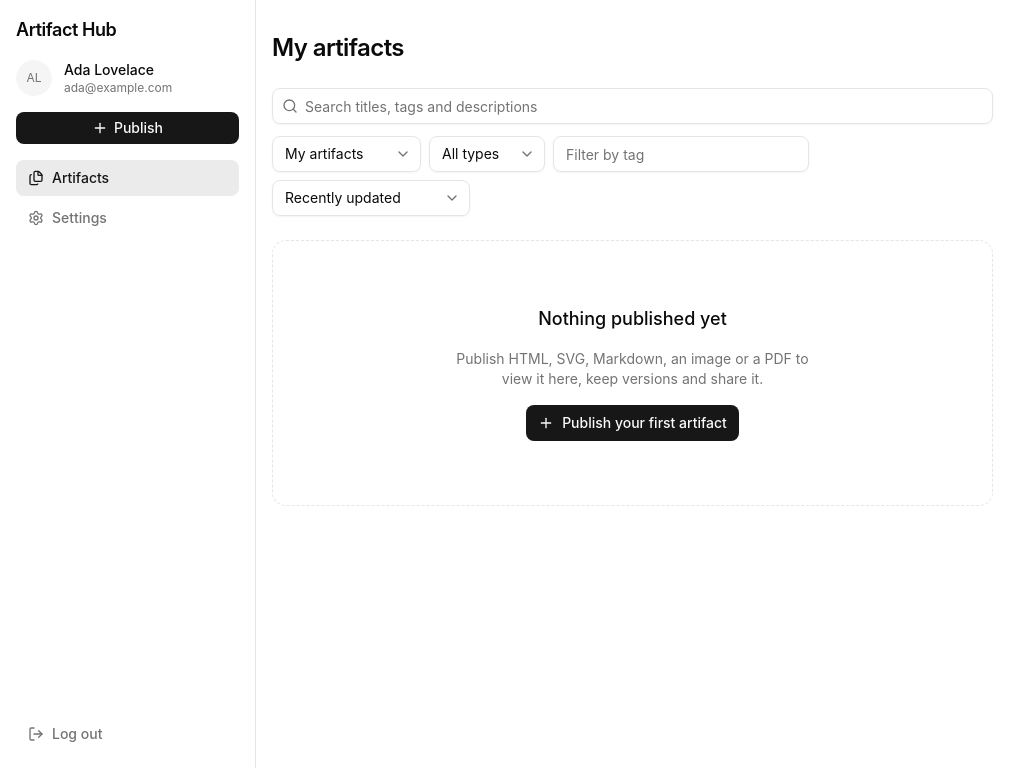
auth flow › session end › logs out from the sidebar
Click the button "Log out" at x=128, y=734, box [16, 716, 239, 752]
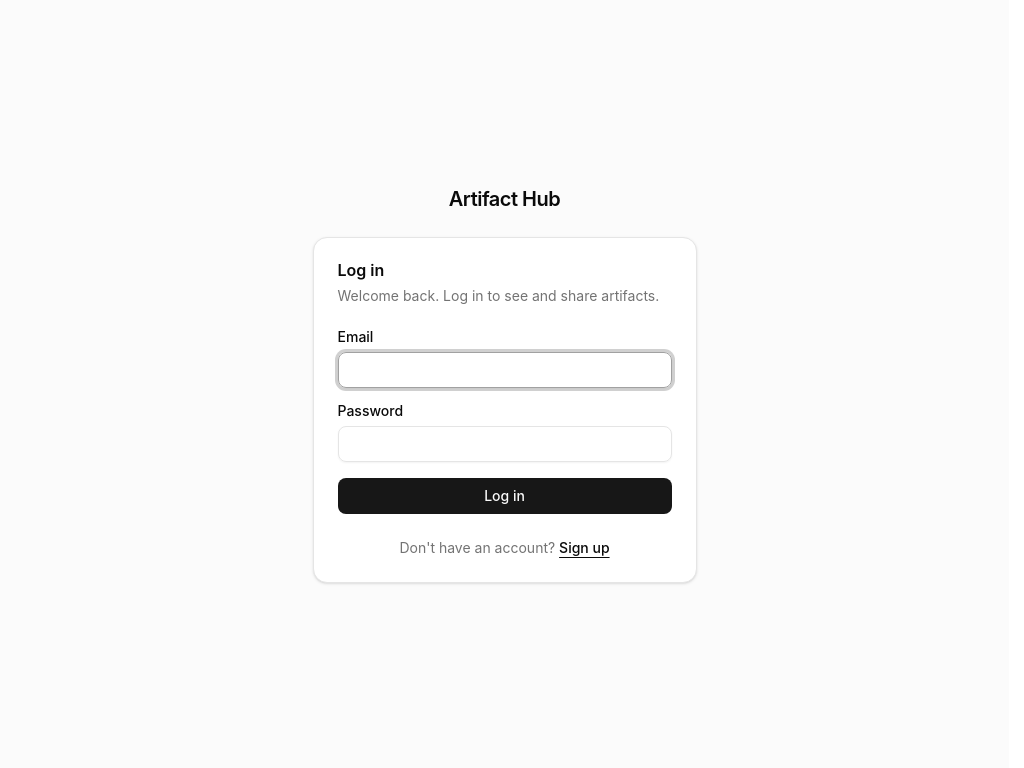
Now the heading "Log in" is shown, box [338, 260, 384, 280]
